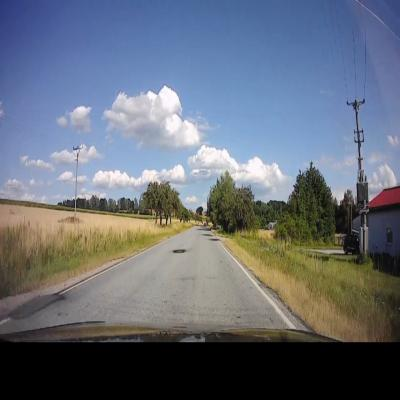clear-road: (0, 226, 305, 334)
